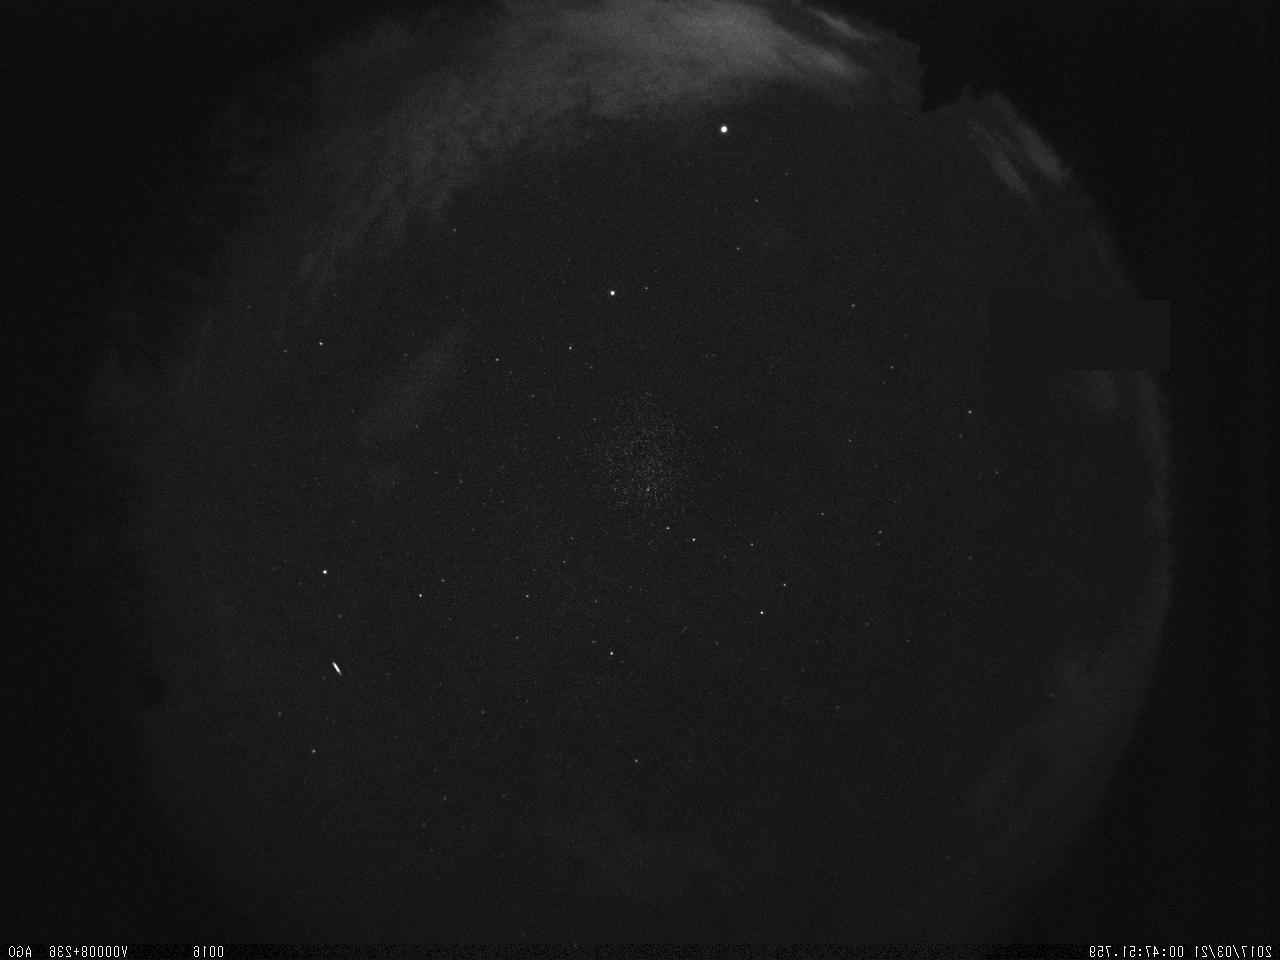meteor: (322, 650, 350, 684)
